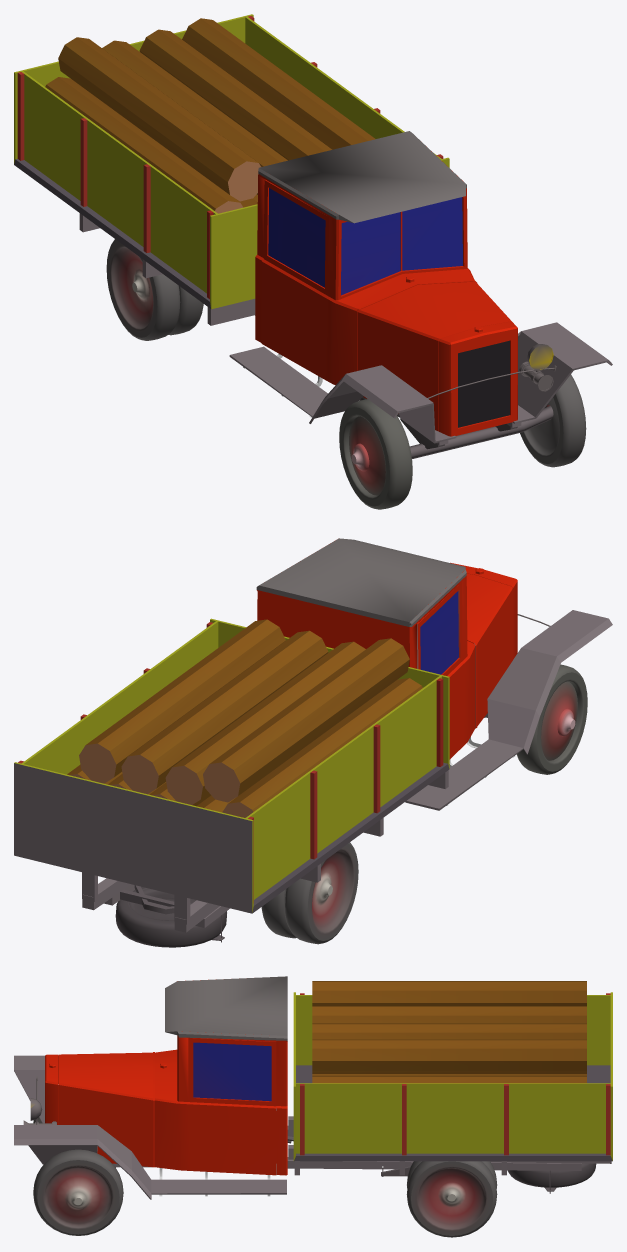
File: WoodTruck.fbx
3 renders of one model, top to bottom at view 1: azimuth 30°, elevation 25°; view 2: azimuth 150°, elevation 25°; view 3: azimuth 270°, elevation 25°, orthographic. The views are drawn at different scales.
Visible parts, largest first — view 1: Box014; view 2: Box014; view 3: Box014.
Boxes of the visible parts, <box> form: Box014: <box>14,14,612,509</box>; Box014: <box>14,538,612,947</box>; Box014: <box>14,976,612,1237</box>.
Bounding box in the file's own units: 502 × 481 × 1349.
